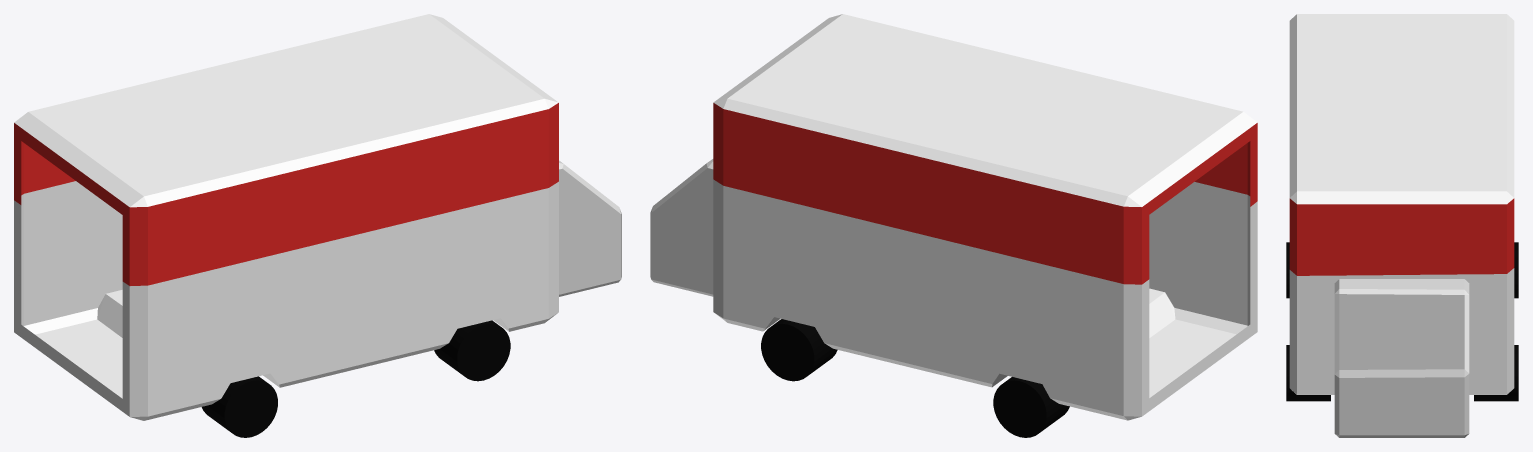
Rendered from Truck.fbx.
The picture shows the model from 3 angles, left to right: view 1: azimuth 30°, elevation 25°; view 2: azimuth 150°, elevation 25°; view 3: azimuth 270°, elevation 25°; orthographic projection. The views are drawn at different scales.
Parts seen in each view (by area): view 1: Cube, Cube.002, Cube.001, Cylinder.001, Cylinder.002; view 2: Cube, Cube.002, Cube.001, Cylinder.003, Cylinder; view 3: Cube, Cube.002, Cube.001, Cylinder.003, Cylinder.001, Cylinder.
Part boxes in pixels (x1,y1,x2,y2): Cube: (14,14,558,420); Cube.002: (14,14,558,420); Cube.001: (559,160,621,296); Cylinder.001: (434,320,510,381); Cylinder.002: (201,376,277,437); Cube: (713,14,1257,420); Cube.002: (713,15,1257,420); Cube.001: (650,159,713,296); Cylinder.003: (761,319,837,381); Cylinder: (993,377,1069,437); Cube: (1289,14,1514,394); Cube.002: (1289,14,1514,394); Cube.001: (1334,279,1469,437); Cylinder.003: (1474,345,1518,401); Cylinder.001: (1286,345,1330,401); Cylinder: (1514,242,1518,298).
Bounding box in the file's own units: 480 × 233 × 207.
